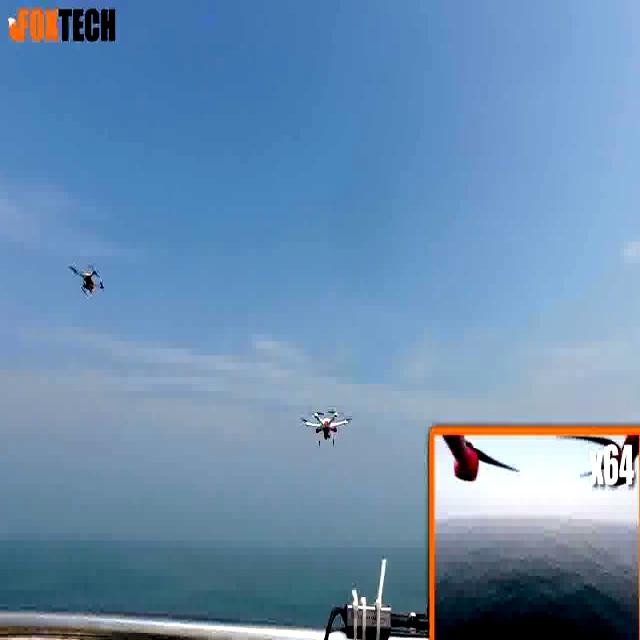drone: (302, 396, 352, 459), (65, 257, 107, 308)
